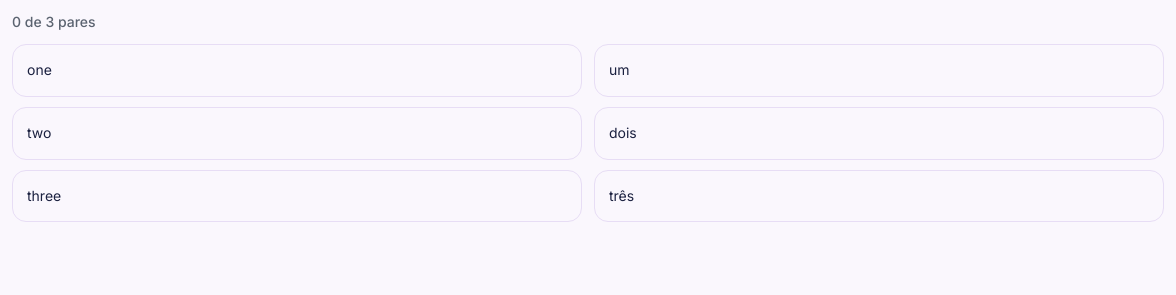
MatchColumns com feedback imediato › limpa apenas o candidato incorreto e preserva pares corretos
What coordinates should you click on to do the following:
click the button "one"
I would click on:
 (39, 70)
Its box is [12, 44, 582, 97].
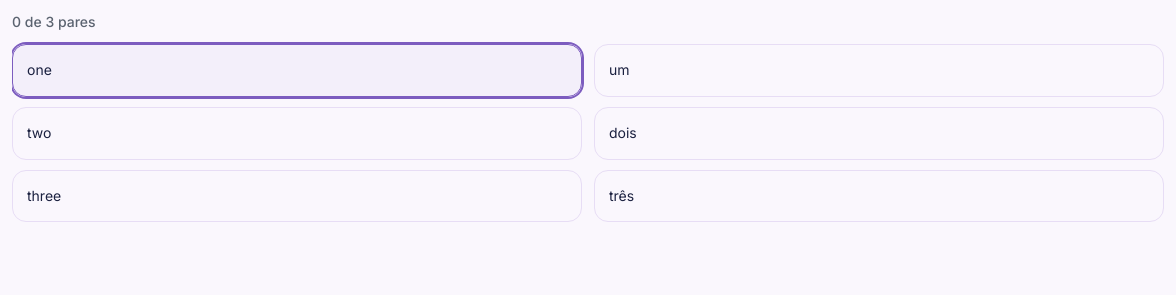
What coordinates should you click on to do the following:
click the button "um"
I would click on:
 (619, 70)
Its box is [594, 44, 1164, 97].
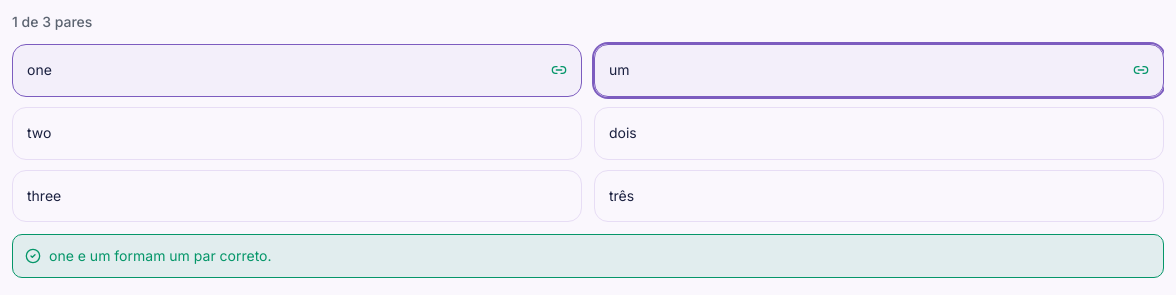
Now the text "1 de 3 pares" is shown, box [12, 13, 92, 30]
What coordinates should you click on to do the following:
click the button "two"
I would click on:
 (39, 132)
Its box is [12, 107, 582, 160].
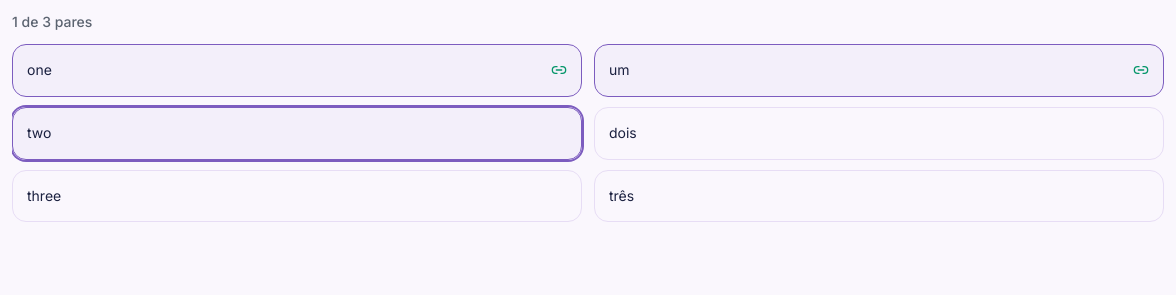
What coordinates should you click on to do the following:
click the button "três"
I would click on:
 (622, 195)
Its box is [594, 170, 1164, 222].
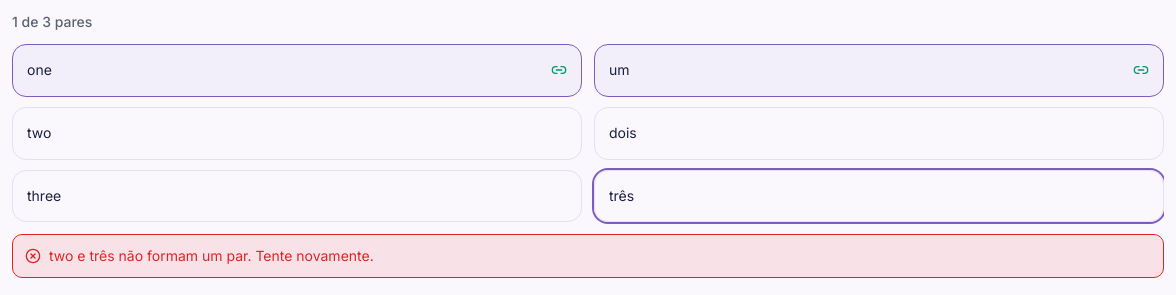
Now the text "1 de 3 pares" is shown, box [12, 13, 92, 30]
Now the message shows "não formam um par", box [49, 247, 374, 264]
